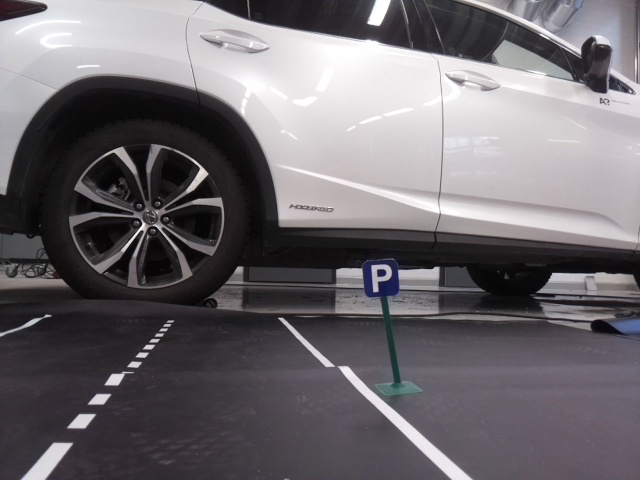Parking: (361, 258, 397, 297)
